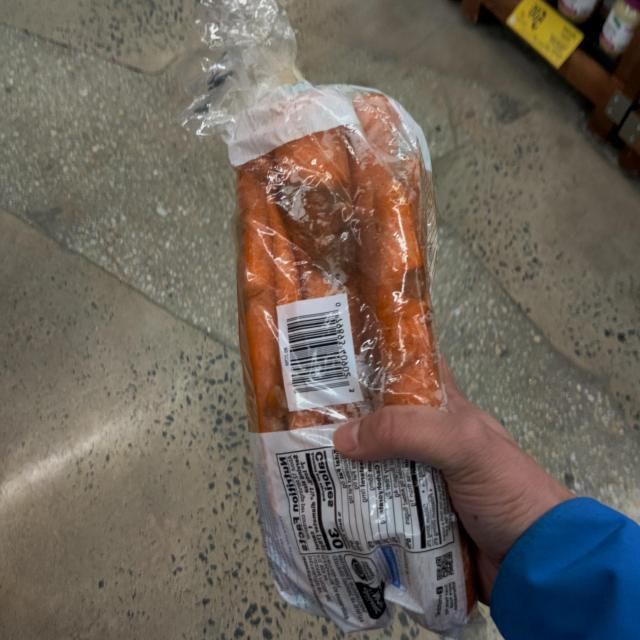carrot: (228, 81, 463, 634)
